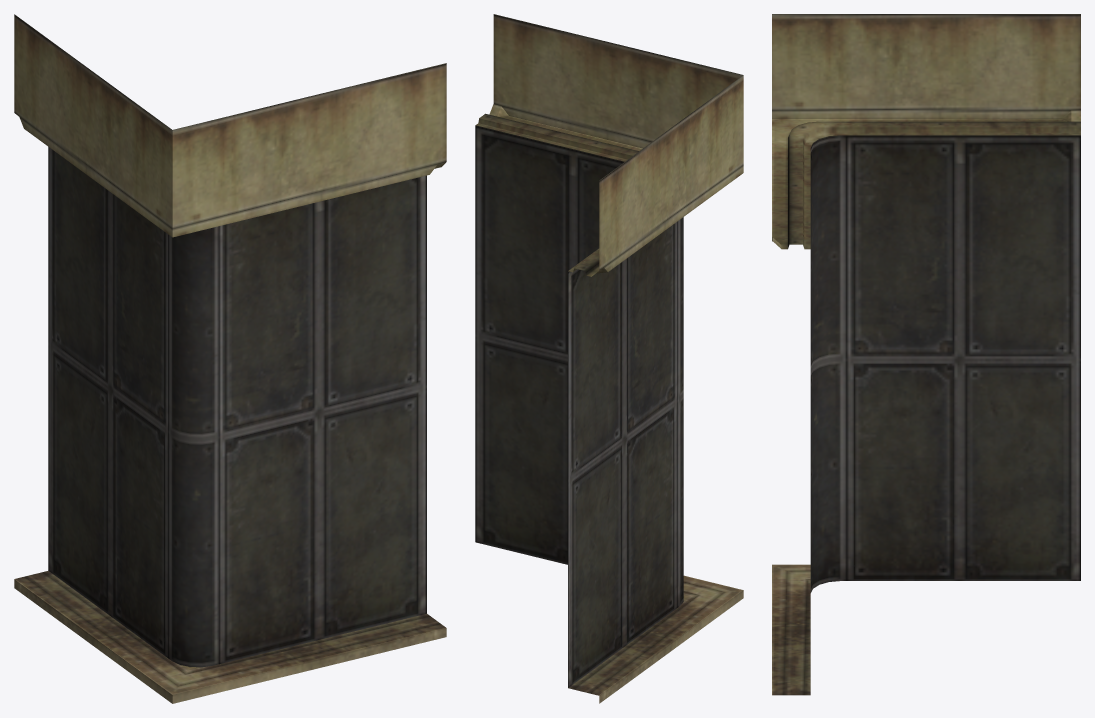
Rendered from pplant_ground_convex_short.dae.
The picture shows the model from 3 angles, left to right: view 1: azimuth 30°, elevation 25°; view 2: azimuth 150°, elevation 25°; view 3: azimuth 270°, elevation 25°; orthographic projection. The views are drawn at different scales.
Parts seen in each view (by area): view 1: ground_convex_short; view 2: ground_convex_short; view 3: ground_convex_short.
Boxes of the visible parts, x1=… form: ground_convex_short: x1=14, y1=14, x2=446, y2=703; ground_convex_short: x1=475, y1=14, x2=743, y2=703; ground_convex_short: x1=772, y1=14, x2=1080, y2=695.
Size of the model in its own units: 2 by 4 by 2.
